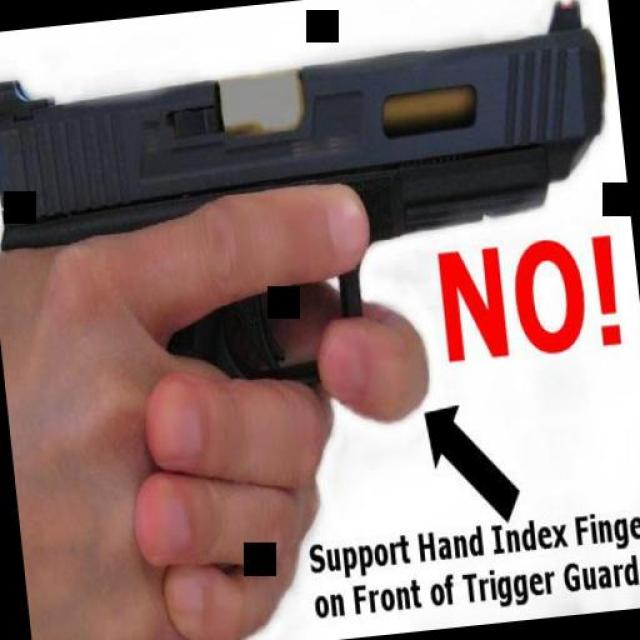gun: (0, 0, 635, 451)
